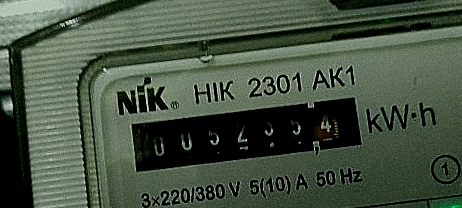0: (148, 131, 167, 159), (177, 125, 194, 152)
2: (231, 116, 248, 143)
3: (258, 111, 276, 137)
4: (315, 107, 334, 135)
5: (285, 108, 304, 137), (203, 120, 222, 148)
screen: (119, 82, 374, 184)
